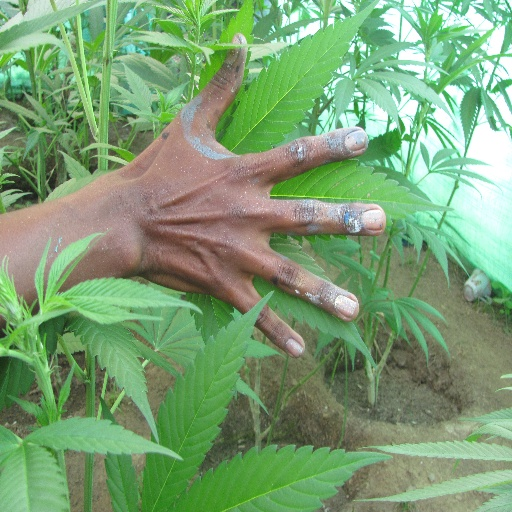hand: (6, 26, 398, 367)
